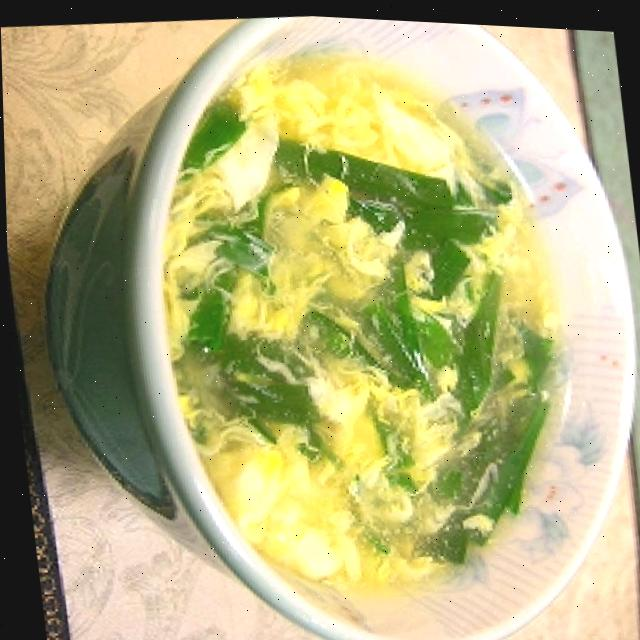汤锅炖物: (11, 0, 640, 640)
